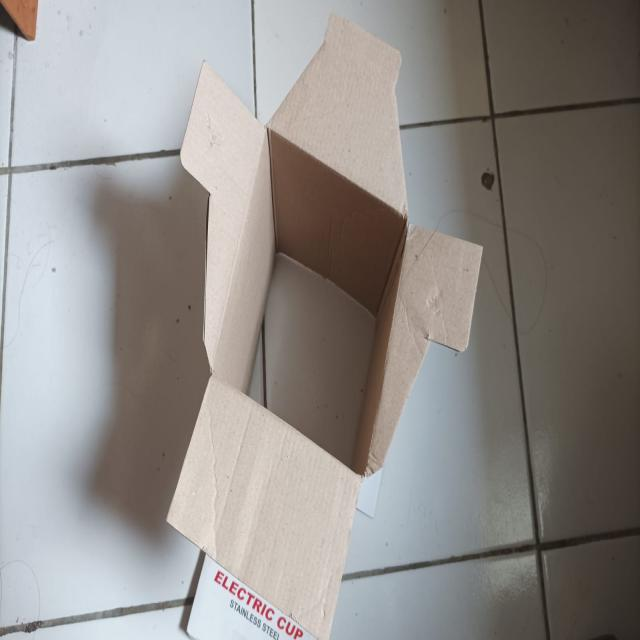Organik: (166, 14, 482, 640)
